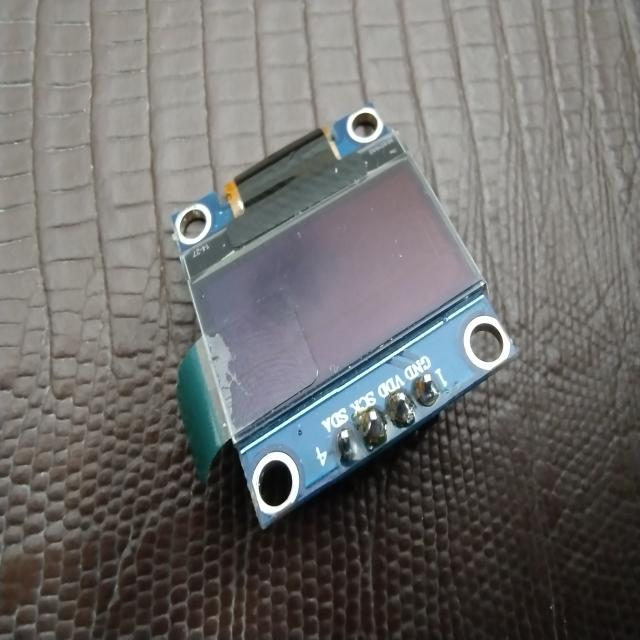oled: (164, 98, 521, 544)
